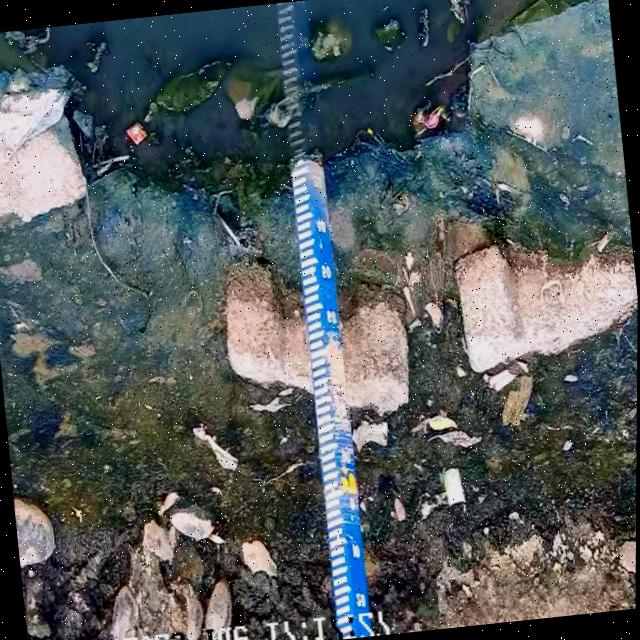water-meter: (269, 120, 385, 640)
